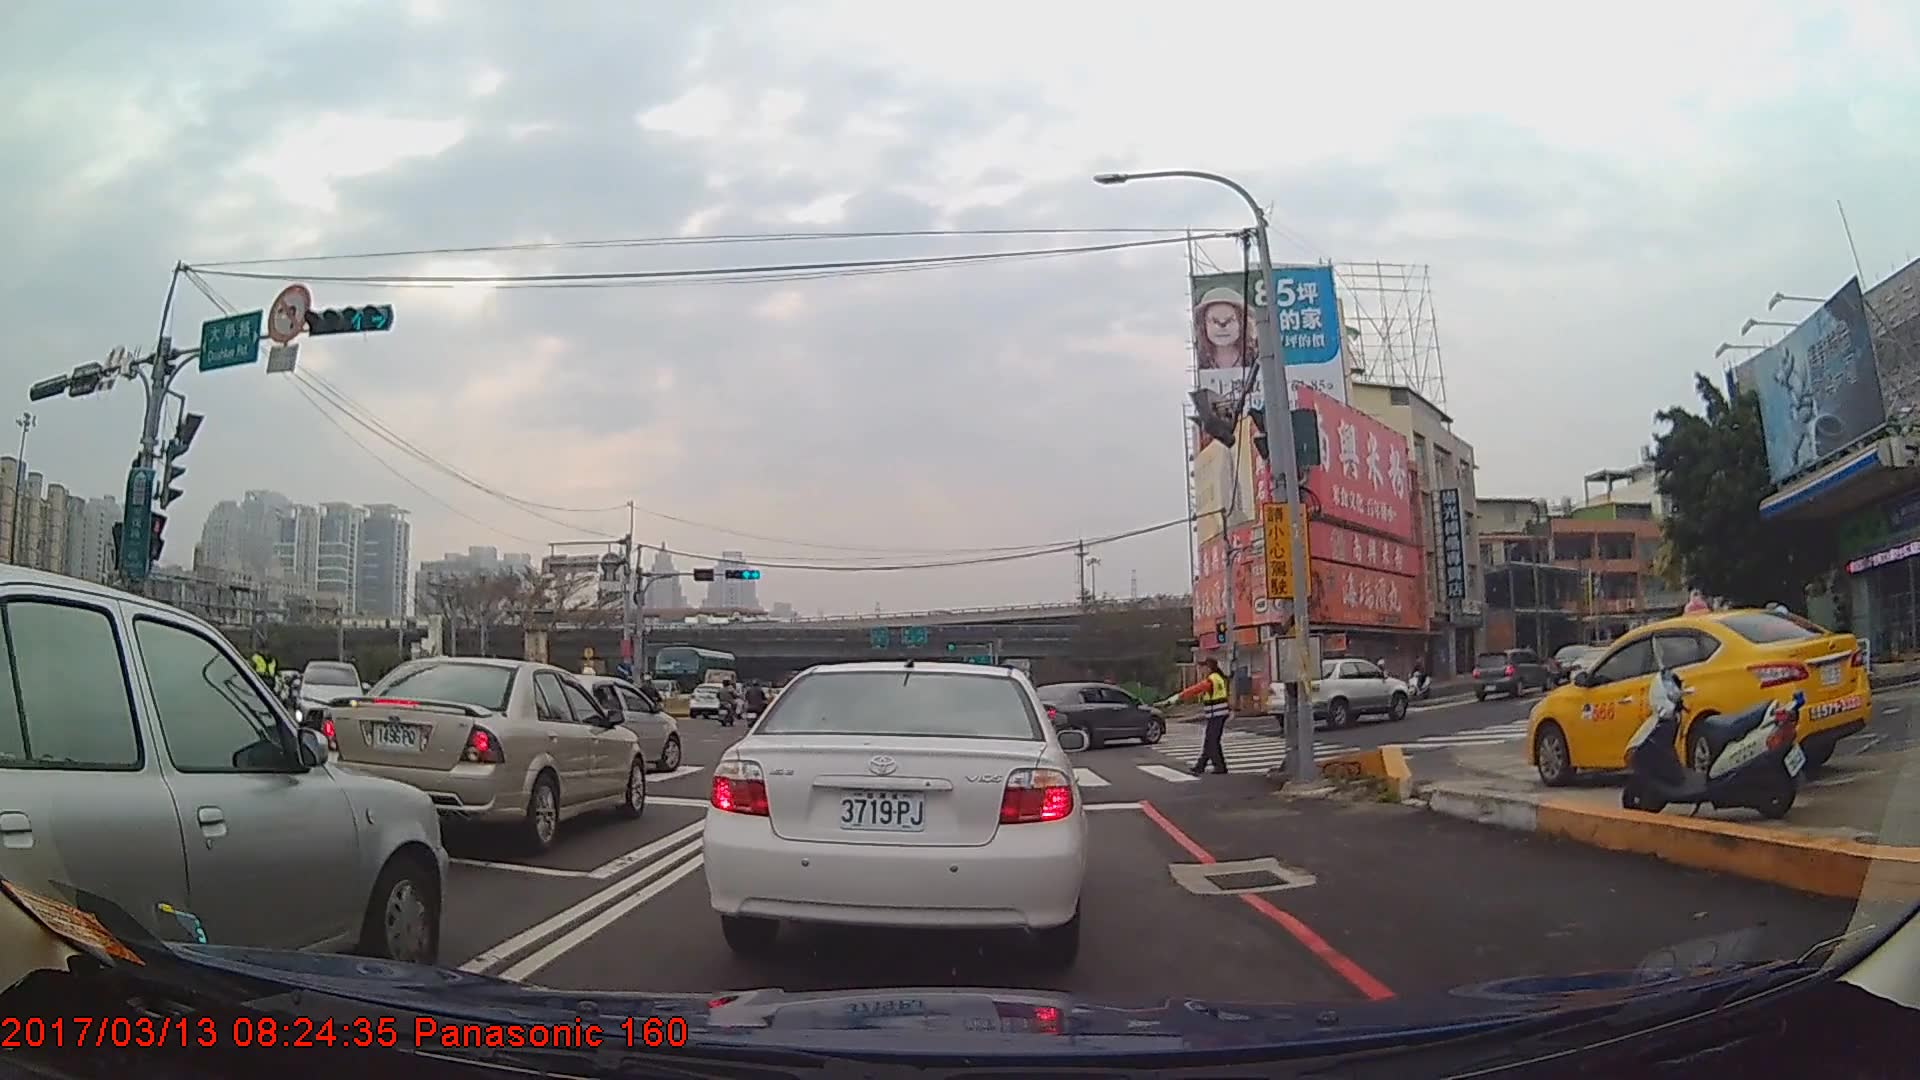pedestrian: (1160, 655, 1235, 776), (244, 640, 285, 742)
rider: (1407, 658, 1434, 704), (748, 680, 770, 729), (716, 680, 737, 727)
vehicle: (0, 563, 448, 1001), (701, 656, 1087, 960), (1521, 605, 1870, 789), (322, 654, 645, 848), (518, 673, 682, 774), (1015, 680, 1166, 749), (1276, 656, 1410, 731), (294, 656, 364, 732), (654, 645, 737, 702), (1467, 647, 1550, 702), (686, 680, 741, 721)
